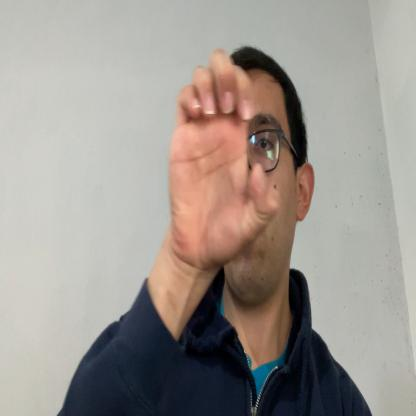E: (170, 49, 282, 268)
